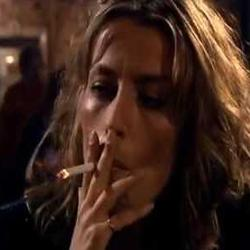smoking: (55, 156, 133, 184)
